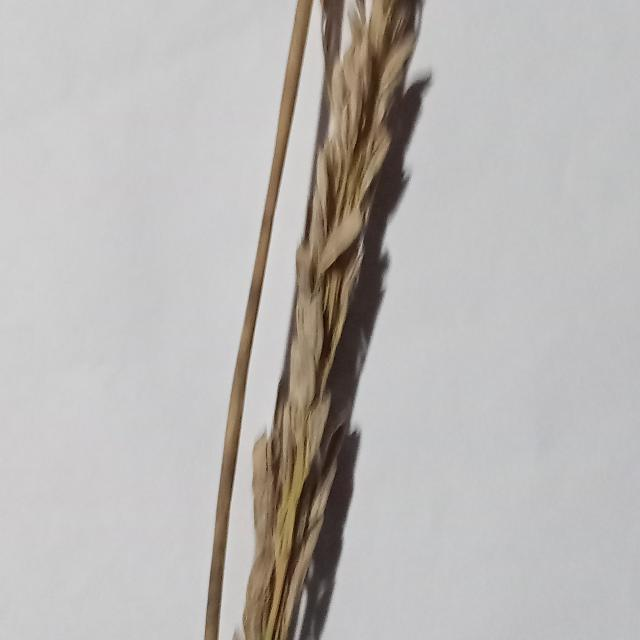Neck_Blast: (239, 1, 431, 640)
